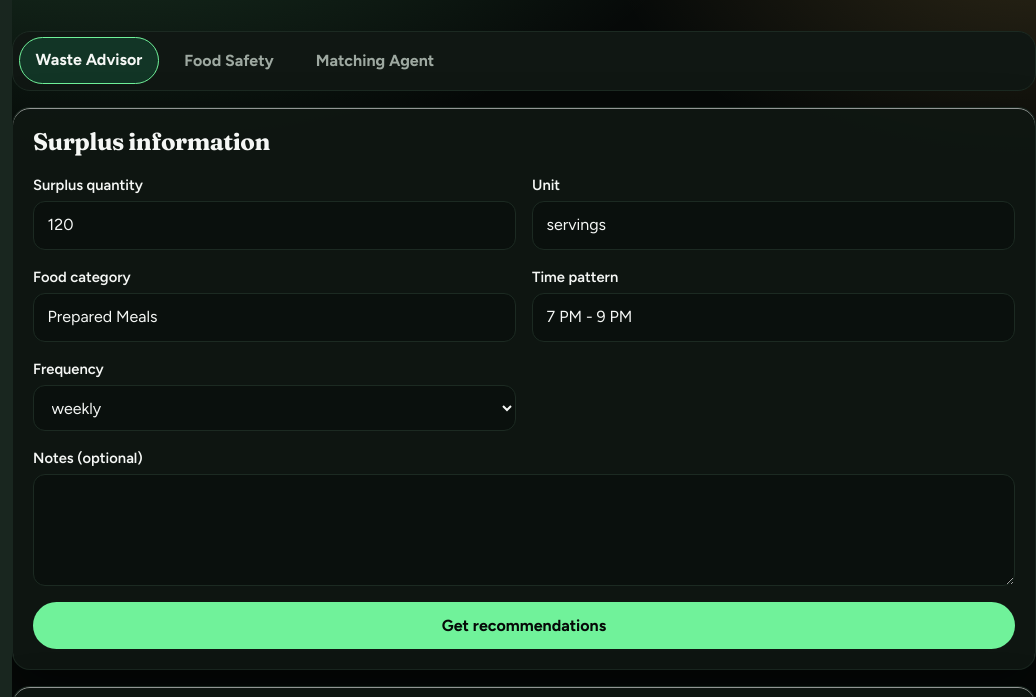
it: FoodLoop AI workspace › shows an advisor error and retries the same API request
This screenshot has width=1036, height=697.
Click the button "Get recommendations" at {"x": 524, "y": 626}, box [33,602,1015,649]
(page scrolled)
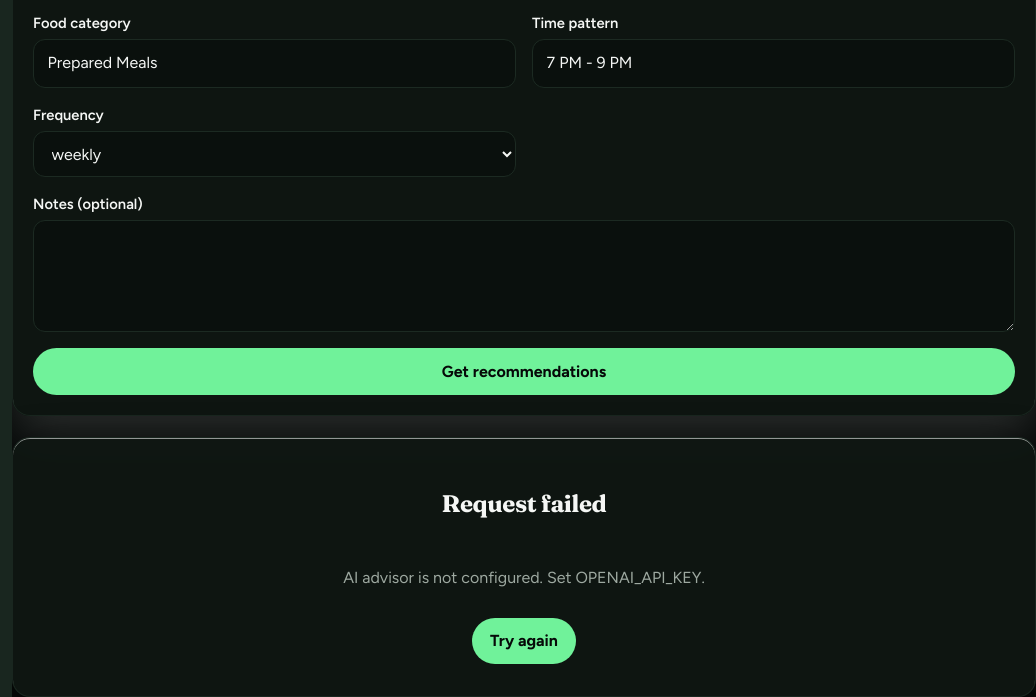
Check: the heading "Request failed" is shown, box [442,490,606,518]
Click the button "Try again" at {"x": 524, "y": 641}, box [472,618,576,664]
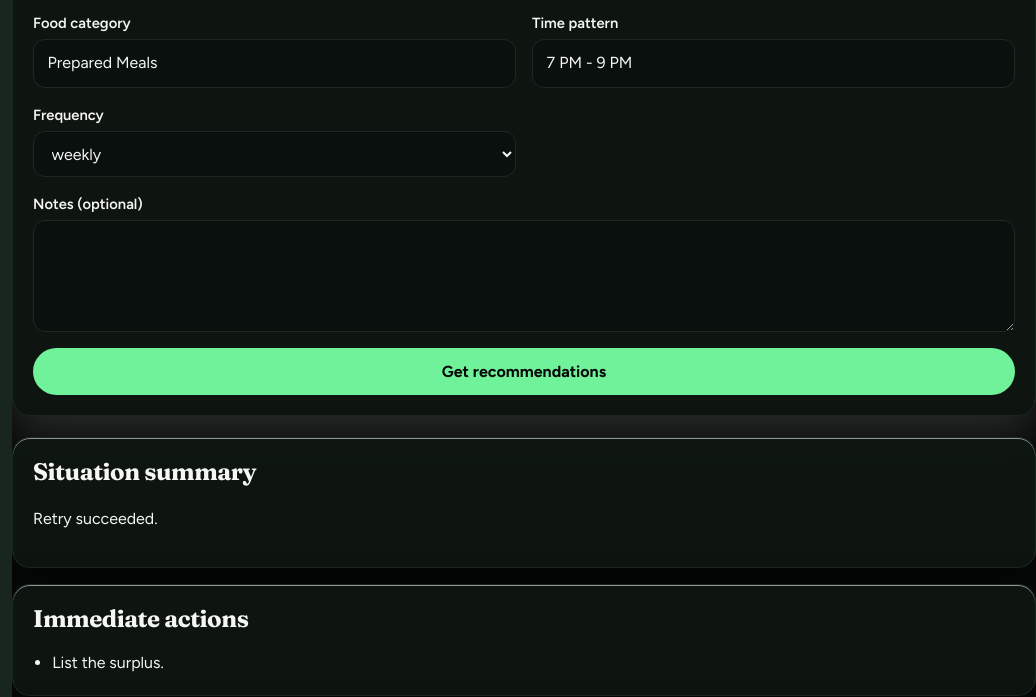
Check: the text "Retry succeeded." is shown, box [33,509,158,528]
